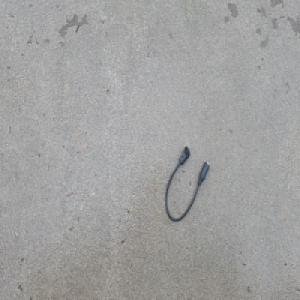Wire: (164, 144, 210, 223)
